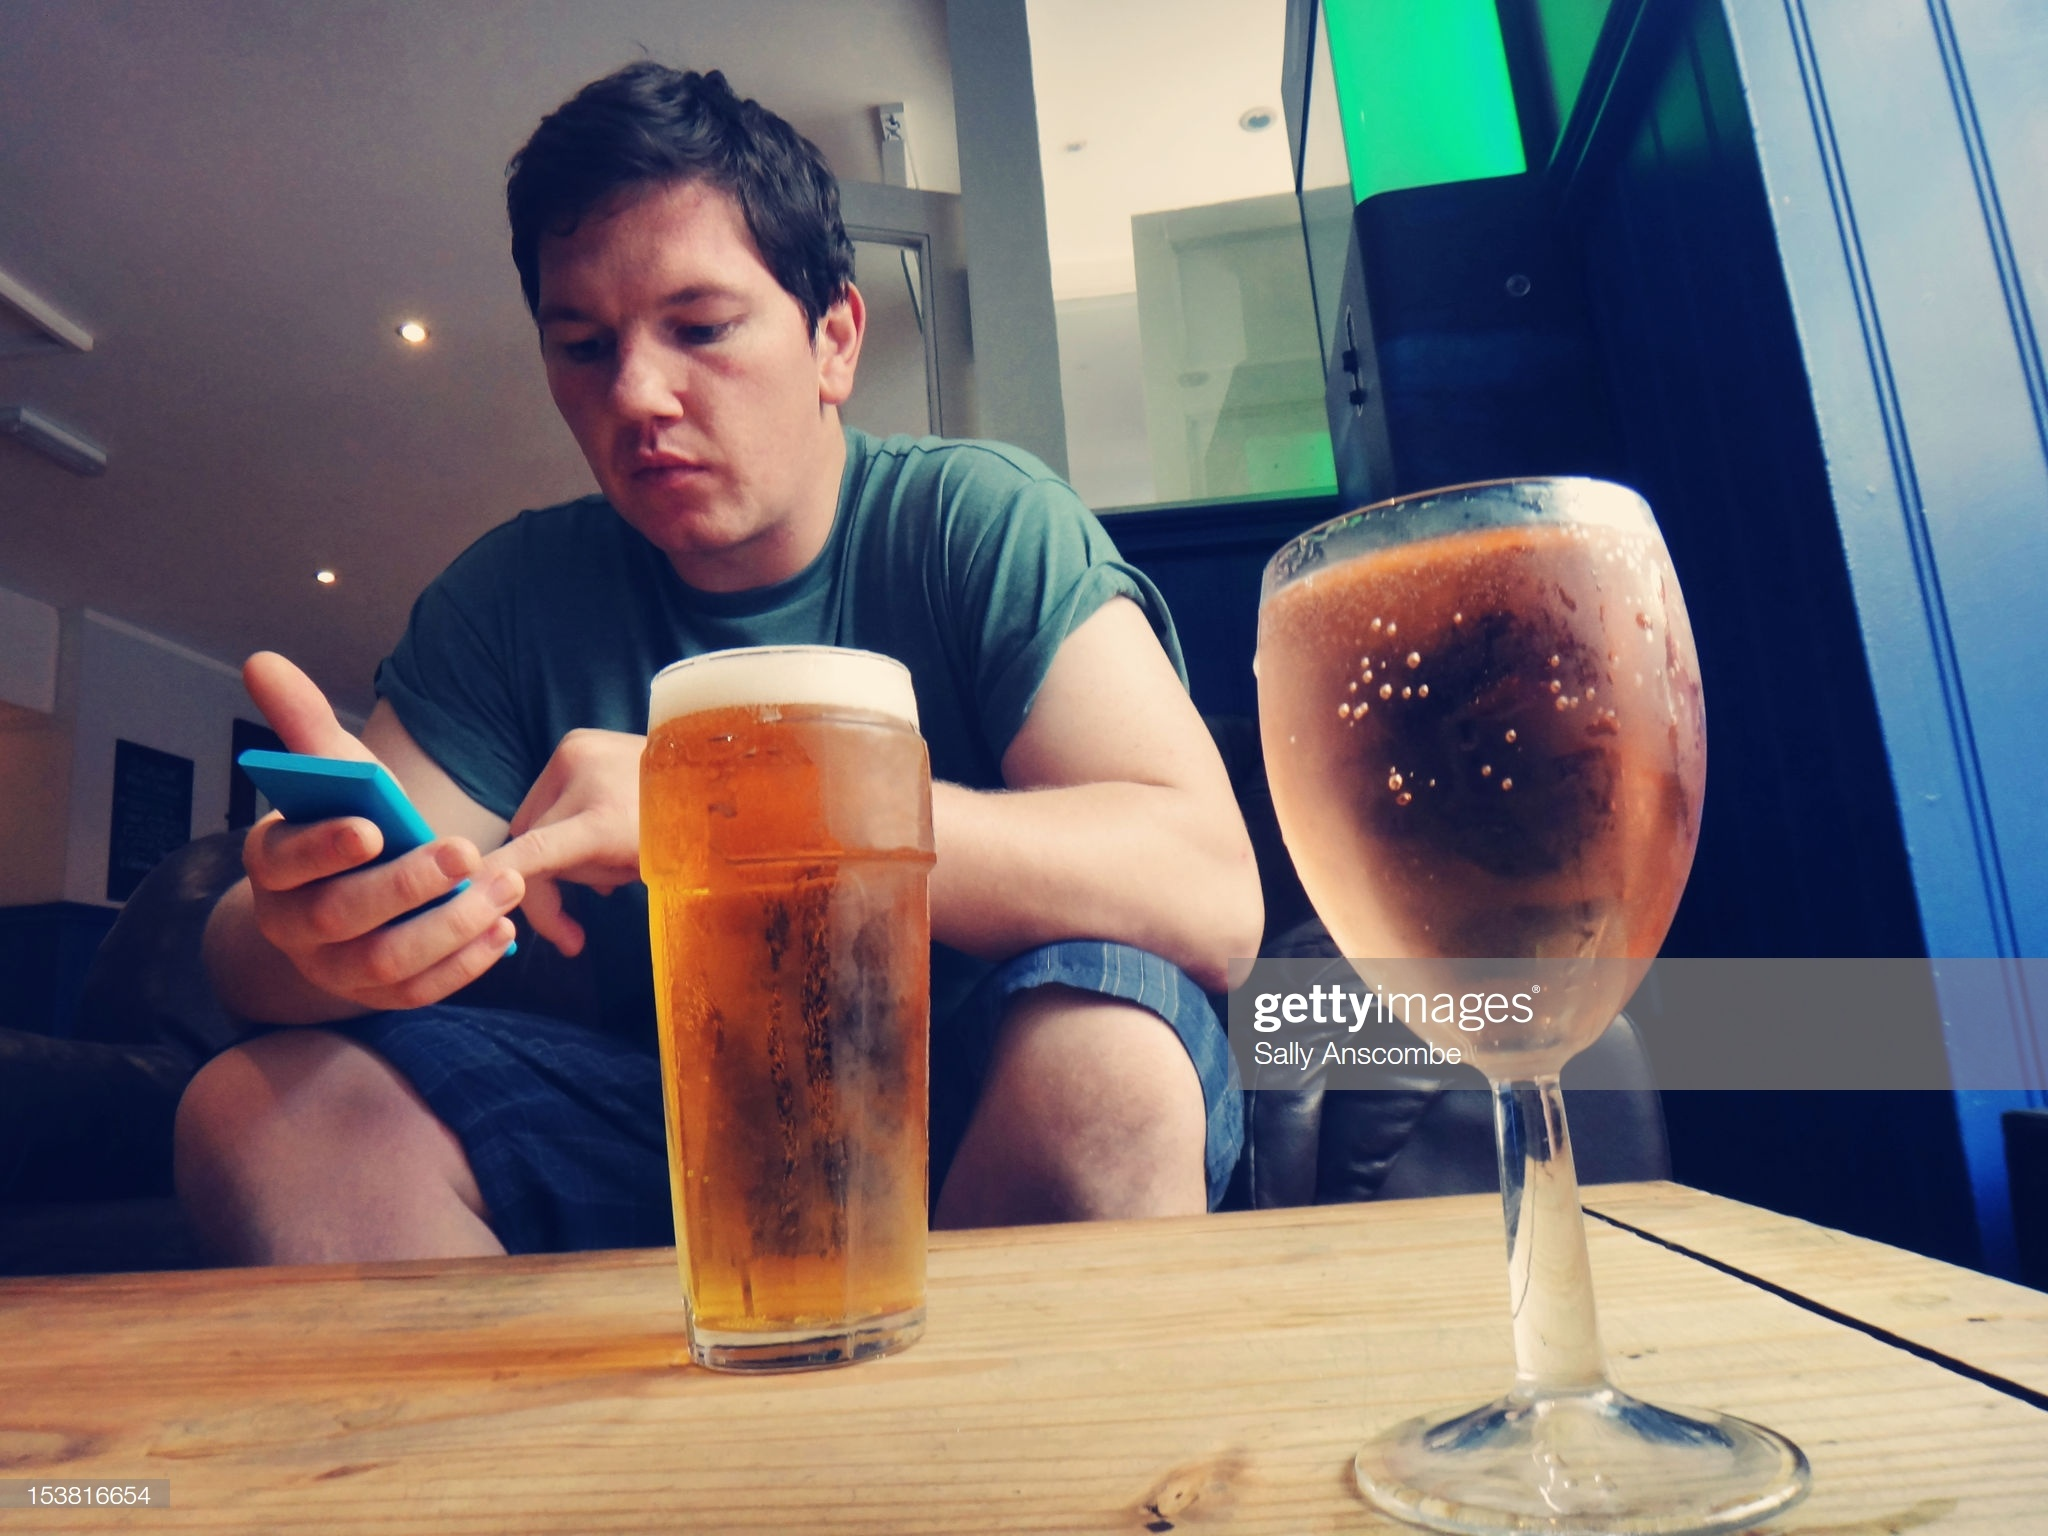glassBeer: (1251, 452, 1708, 1379), (676, 624, 929, 1367)
